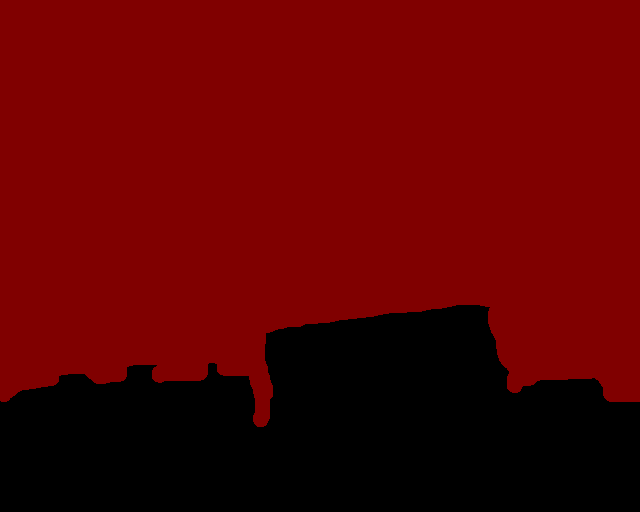Sky: (1, 1, 639, 426)
